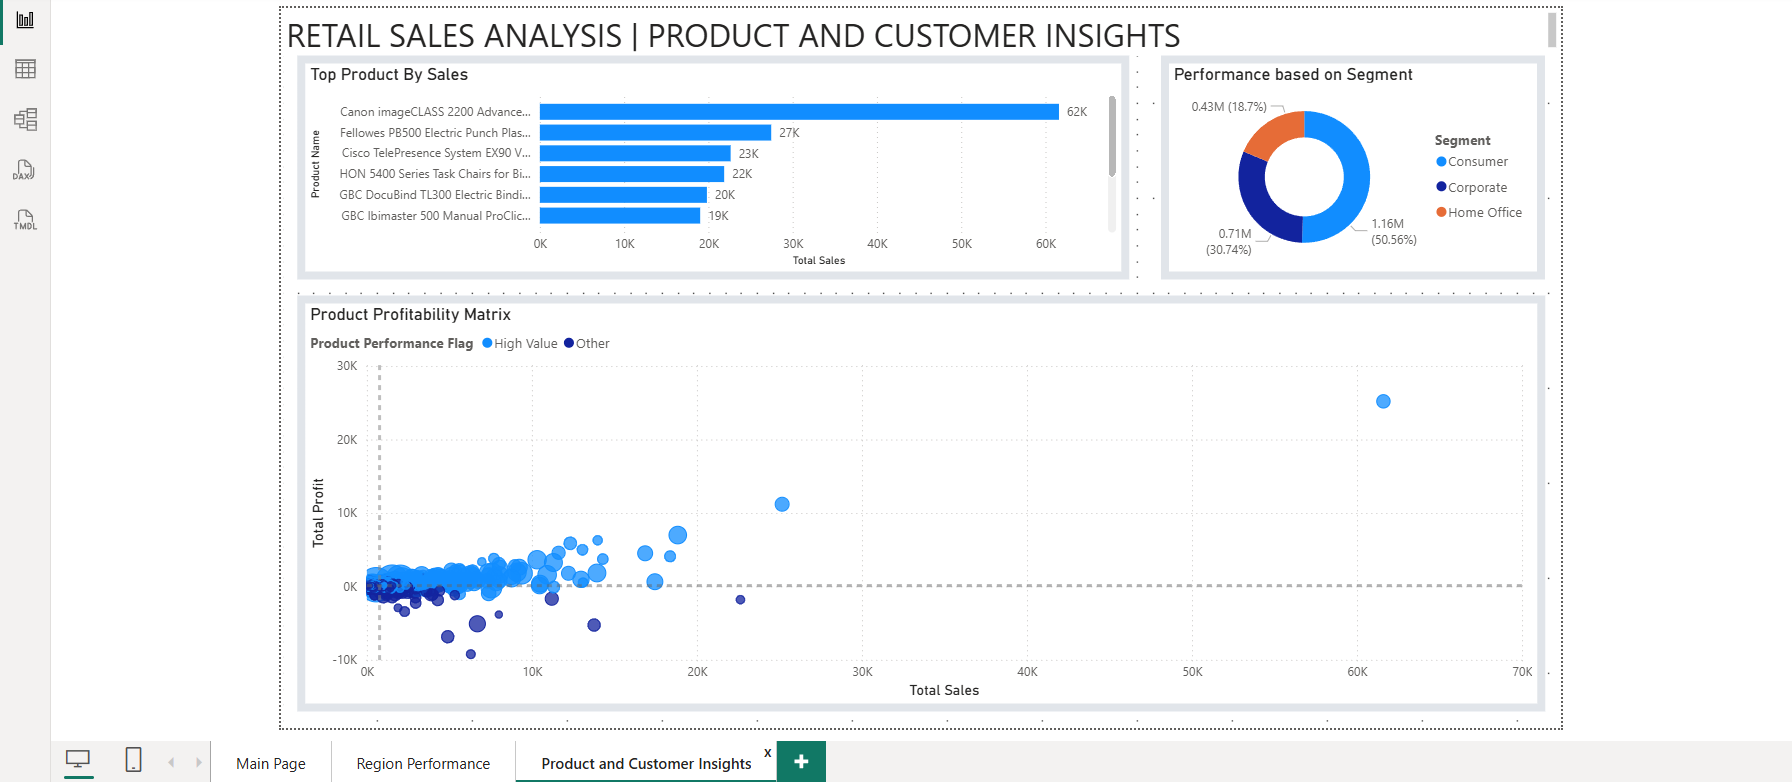

The dashboard page shown, as its layout file describes it:
{"tool":"powerbi","page":{"name":"Product and Customer Insights","canvas":[1280,720],"ordinal":2},"visuals":[{"type":"textbox","box":[0,0,1280,48],"z":0},{"type":"barChart","title":"Top Product By Sales","fields":{"Category":["Dim_Product_Final.Product Name"],"Y":["Dim_Customer_Final.Total Sales"]},"box":[16,48,832,224],"z":1},{"type":"donutChart","title":"Performance based on Segment","fields":{"Category":["Dim_Customer_Final.Segment"],"Y":["Dim_Customer_Final.Total Sales"]},"box":[880,48,384,224],"z":2},{"type":"scatterChart","title":"Product Profitability Matrix","fields":{"X":["Dim_Customer_Final.Total Sales"],"Y":["Dim_Customer_Final.Total Profit"],"Size":["Sum(Main Data.Quantity)"],"Category":["Dim_Product_Final.Product Name"],"Series":["Dim_Customer_Final.Product Performance Flag"]},"box":[16,288,1248,416],"z":3}]}

Visuals, with their boxes on the page's 1280x720 design canvas (x1, y1, x2, y2). These are canvas units, not pixel positions in the 1792x782 screenshot, which may show the page scaled, cropped or inside an application window:
textbox: (0, 0, 1280, 48)
"Top Product By Sales" barChart: (16, 48, 848, 272)
"Performance based on Segment" donutChart: (880, 48, 1264, 272)
"Product Profitability Matrix" scatterChart: (16, 288, 1264, 704)
